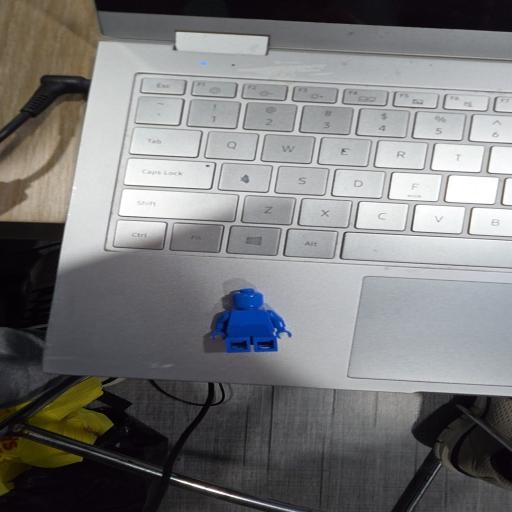Blue: (211, 289, 291, 353)
